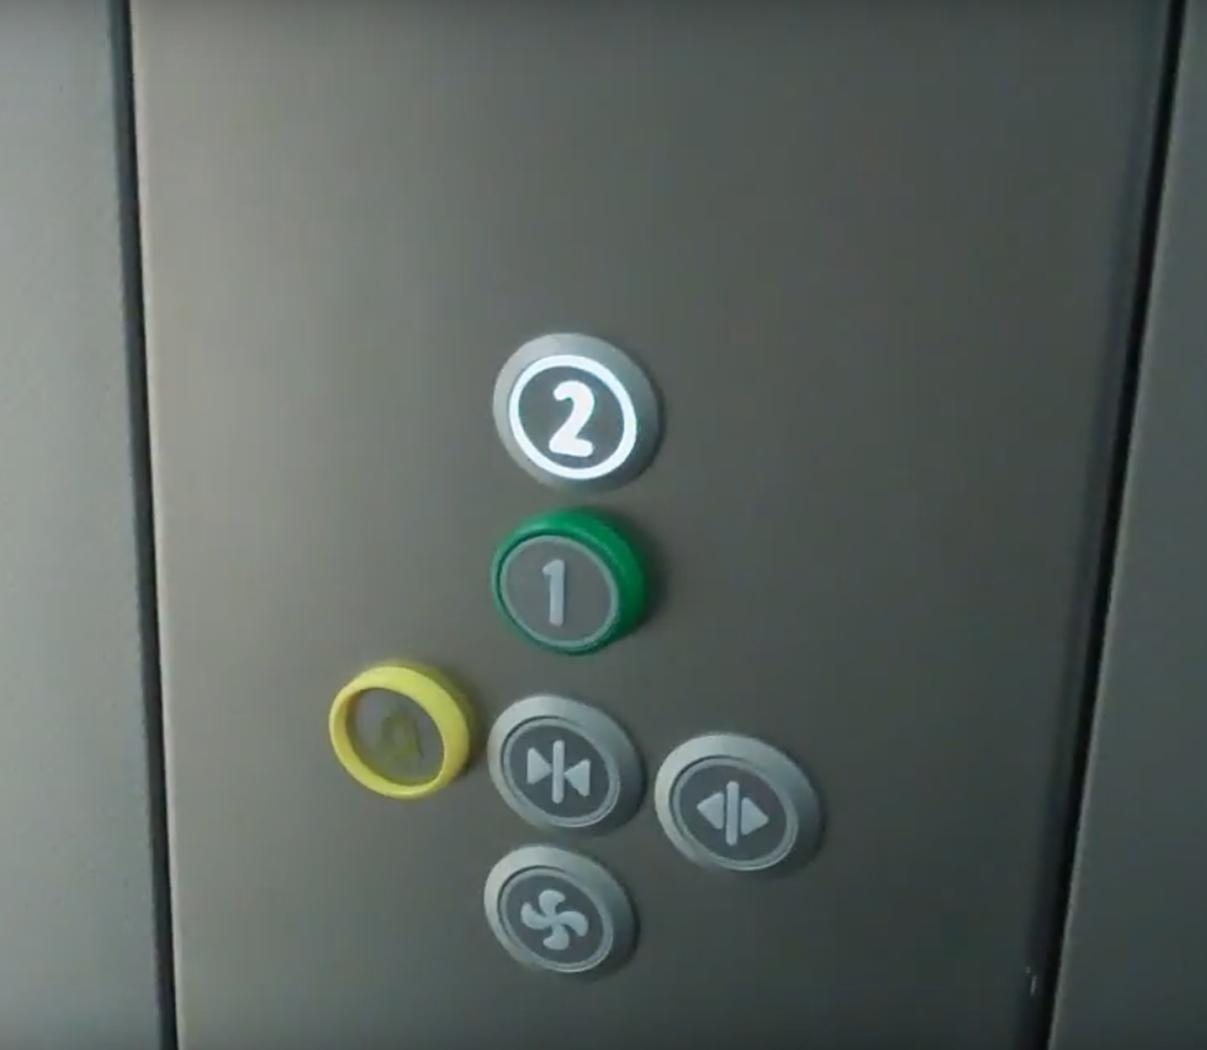1: (489, 508, 645, 658)
2: (486, 326, 666, 497)
alarm: (322, 657, 469, 803)
close: (478, 688, 644, 842)
fan: (479, 841, 639, 985)
open: (654, 725, 820, 879)
